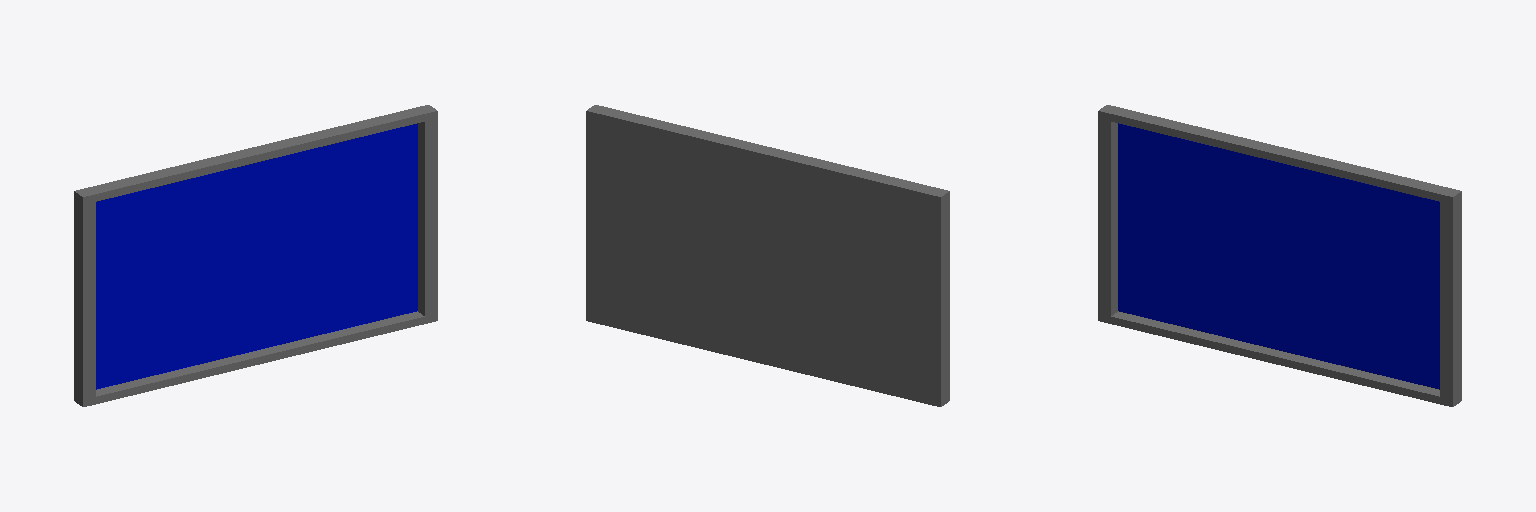
The model's file is Bord.obj.
3 renders of one model, left to right at view 1: azimuth 30°, elevation 25°; view 2: azimuth 150°, elevation 25°; view 3: azimuth 330°, elevation 25°, orthographic.
Parts seen in each view (by area): view 1: Cube; view 2: Cube; view 3: Cube.
Part boxes in pixels (bbox=[...]): Cube: bbox=[74, 105, 437, 406]; Cube: bbox=[586, 105, 949, 406]; Cube: bbox=[1098, 105, 1461, 406].
Size of the model in its own units: 7.06 by 4 by 0.3.